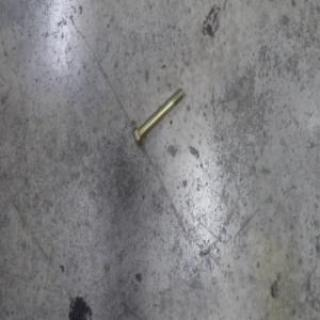Bolttrack_idkeyframe: (132, 84, 186, 146)
